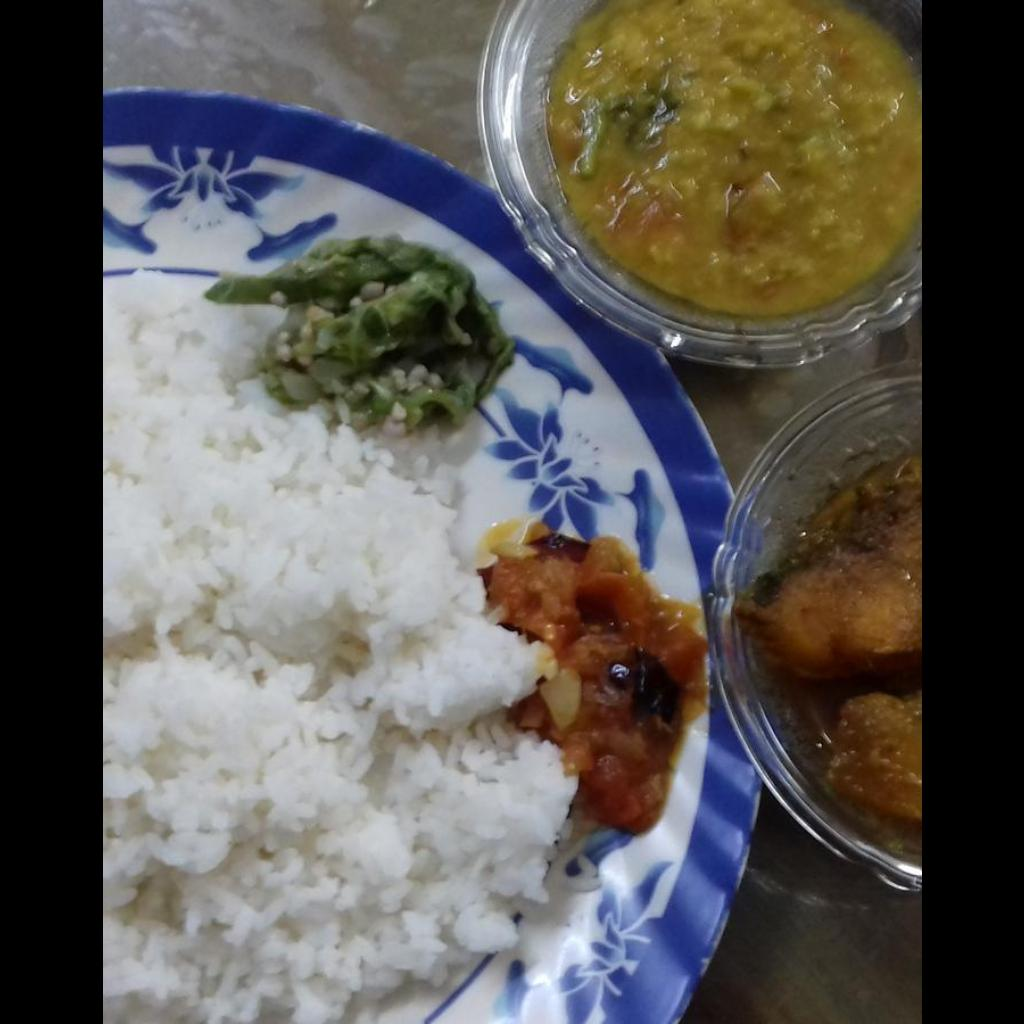chicken: (732, 520, 920, 827)
daal: (541, 4, 919, 316)
okra: (211, 236, 507, 435)
rice: (104, 277, 576, 1020)
vorta: (495, 535, 708, 834)
